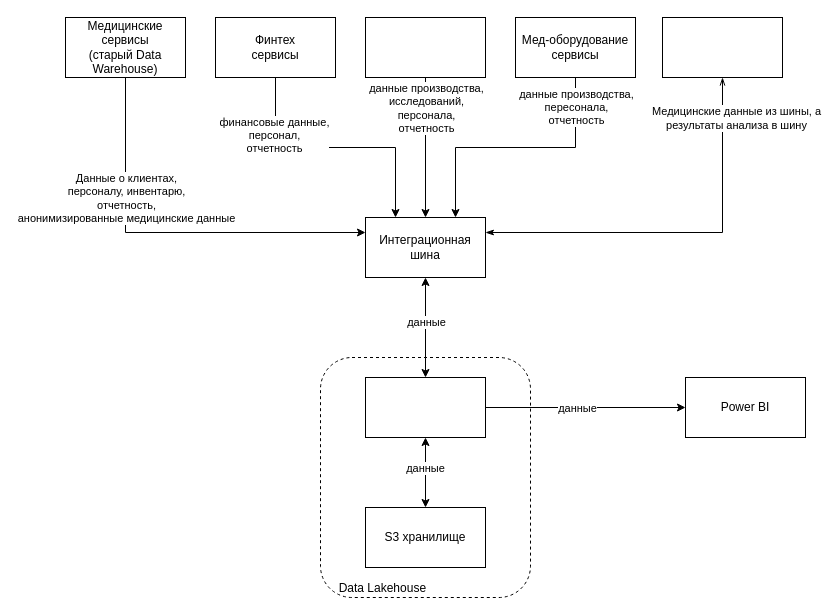
This 838x615 diagram has some shape labels left out. The centre of each missing label's shape, as x and y in pixels:
Dremio: pixel 425 407
ML сервисы: pixel 722 47
Фармацевтические сервисы: pixel 425 47
